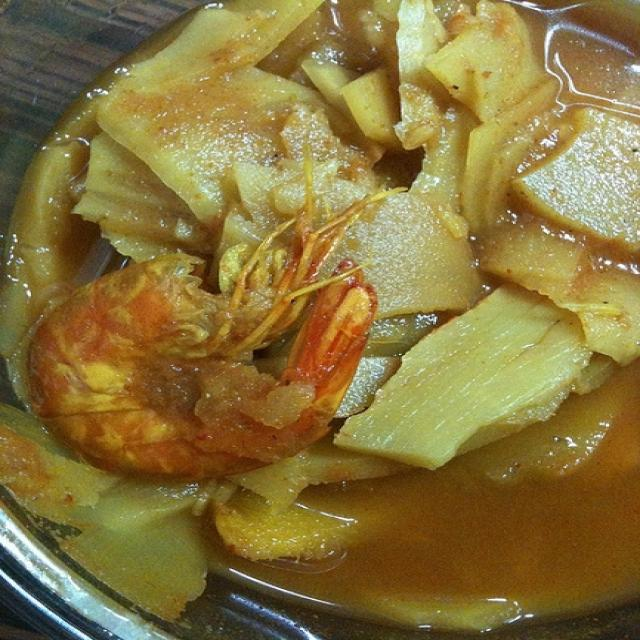汤锅炖物: (19, 16, 636, 621)
